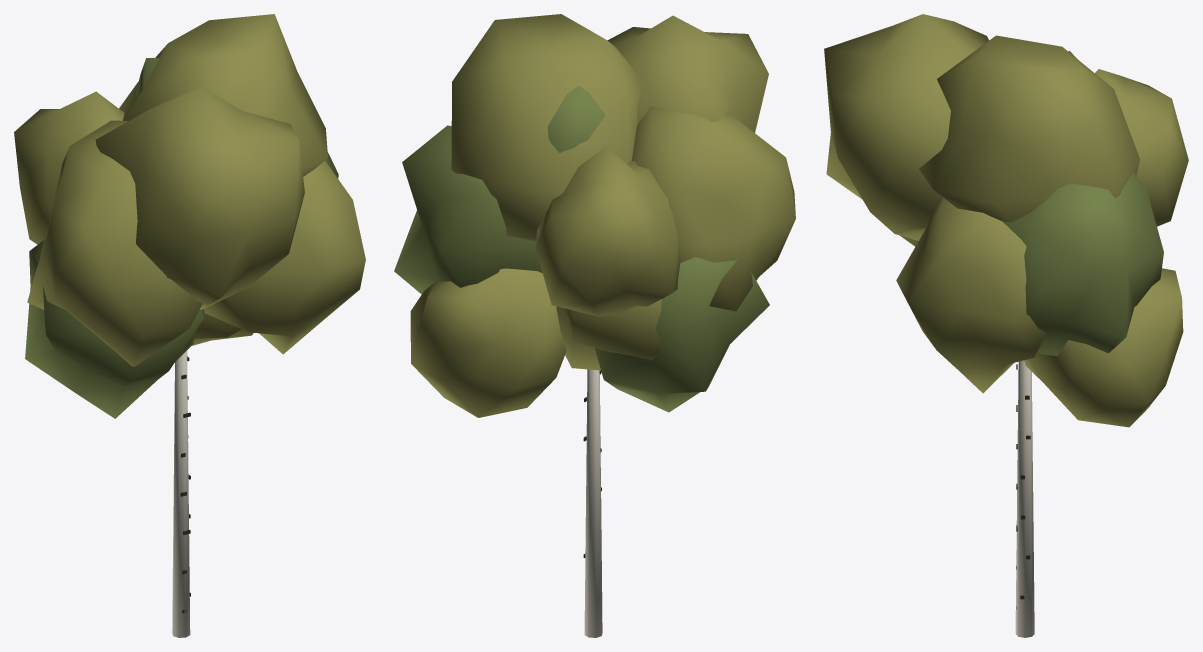
File: birch_2.glb
The picture shows the model from 3 angles, left to right: view 1: azimuth 30°, elevation 25°; view 2: azimuth 150°, elevation 25°; view 3: azimuth 270°, elevation 25°; orthographic projection. The views are drawn at different scales.
Visible parts, largest first — view 1: Tree; view 2: Tree; view 3: Tree.
Part boxes in pixels (left/top/right/bottom): Tree: left=14, top=14, right=365, bottom=637; Tree: left=394, top=14, right=795, bottom=637; Tree: left=824, top=14, right=1188, bottom=637.
Size of the model in its own units: 5.27 by 9.11 by 4.95.
